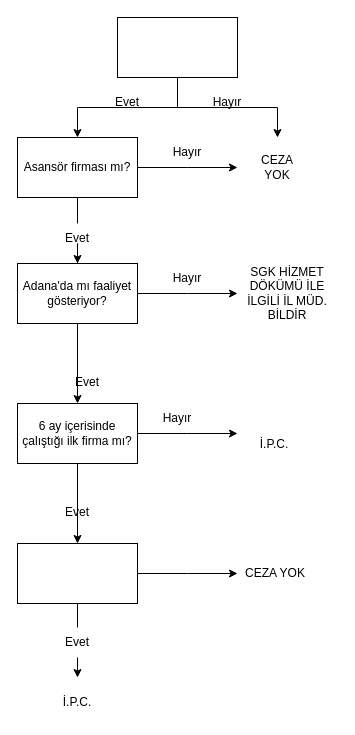
Some shapes in this 355 by 735 pixel diagram are drawn without their labels. The shapes that lost their labels are listed below. From the top down, each one's box as (x1, y1, x2, y2) in pixels, then its label:
(116, 16, 238, 78): Denetime konu firma son 6 ay içerisinde faaliyet gösterdiği bir firma mı?
(16, 542, 138, 604): İşe girdiği tarihte çalıştığı başka bir firma var mı?
